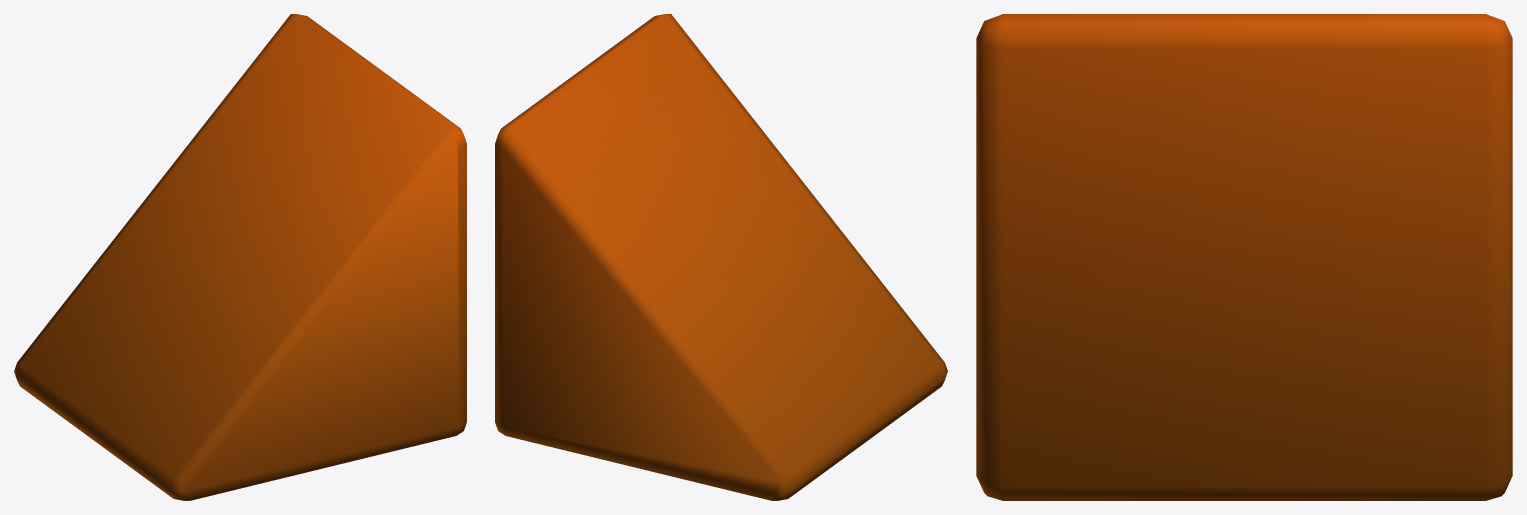
File: 3D_Tile_Ground_Slope_04.fbx
The picture shows the model from 3 angles, left to right: view 1: azimuth 30°, elevation 25°; view 2: azimuth 150°, elevation 25°; view 3: azimuth 270°, elevation 25°; orthographic projection. The views are drawn at different scales.
Visible parts, largest first — view 1: 3D_Tile_Ground_Slope_04; view 2: 3D_Tile_Ground_Slope_04; view 3: 3D_Tile_Ground_Slope_04.
Boxes of the visible parts, <box> form: 3D_Tile_Ground_Slope_04: <box>14,14,466,500</box>; 3D_Tile_Ground_Slope_04: <box>495,14,947,500</box>; 3D_Tile_Ground_Slope_04: <box>976,14,1512,500</box>.
Size of the model in its own units: 200 by 200 by 200.
